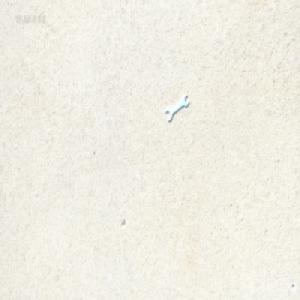Wrench: (164, 93, 187, 121)
